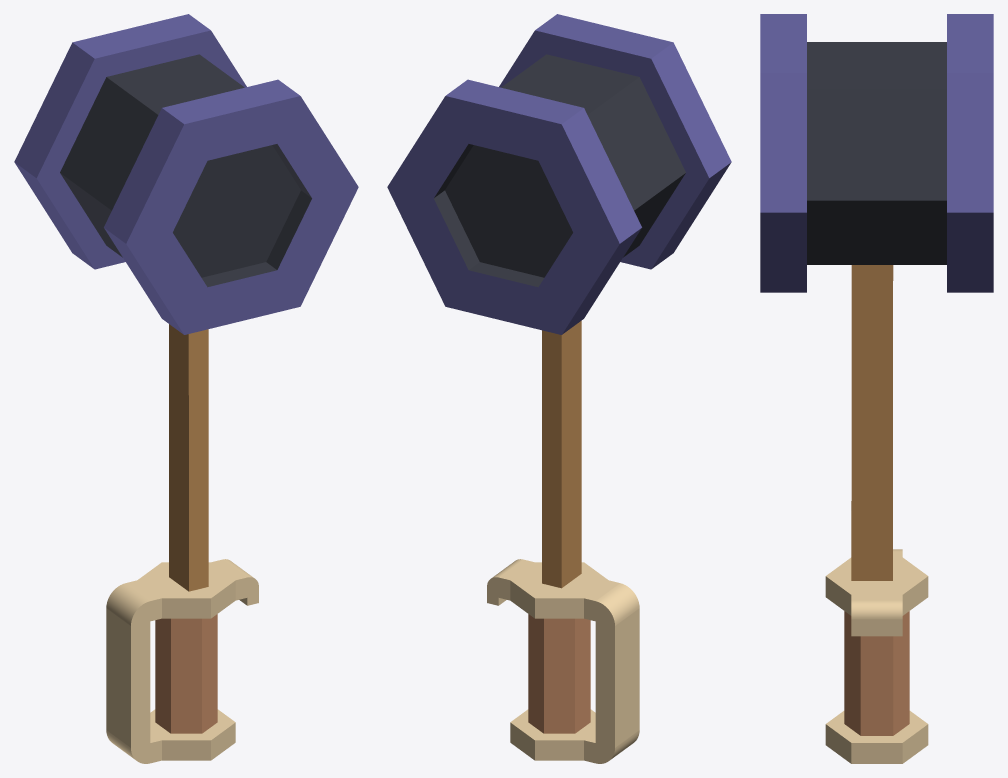
Rendered from Hammer.fbx.
3 views of the same model, side by side, from view 1: azimuth 30°, elevation 25°; view 2: azimuth 150°, elevation 25°; view 3: azimuth 270°, elevation 25° (orthographic). The views are drawn at different scales.
Parts seen in each view (by area): view 1: mergedBlocks; view 2: mergedBlocks; view 3: mergedBlocks.
Part boxes in pixels (box(x1,y1,x2,y2)): mergedBlocks: box(14, 14, 358, 763); mergedBlocks: box(387, 14, 731, 763); mergedBlocks: box(760, 14, 993, 763).
Size of the model in its own units: 6 by 16.6 by 5.
